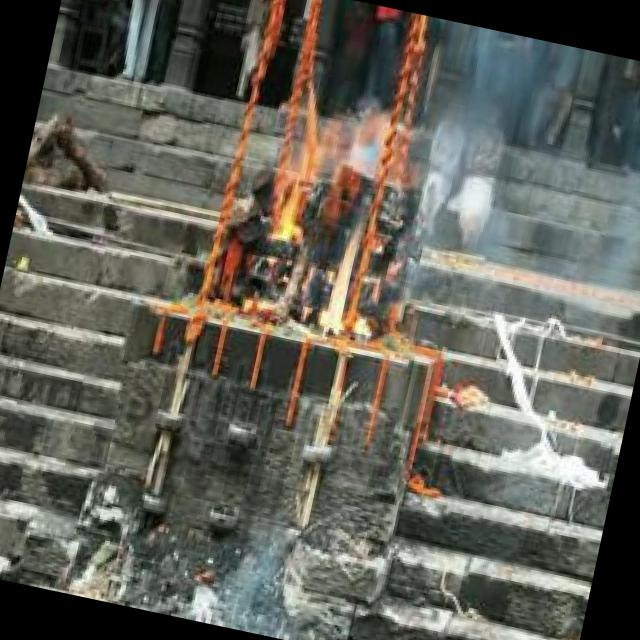Fire: (238, 73, 394, 340)
